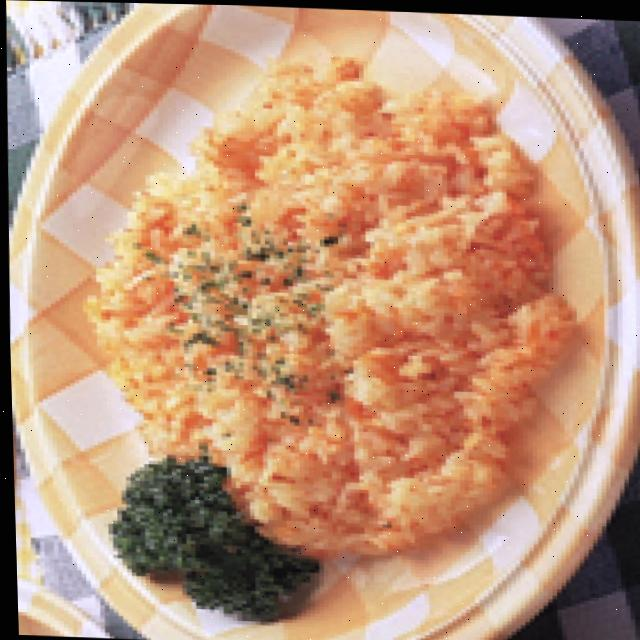米饭主食: (60, 35, 595, 631)
